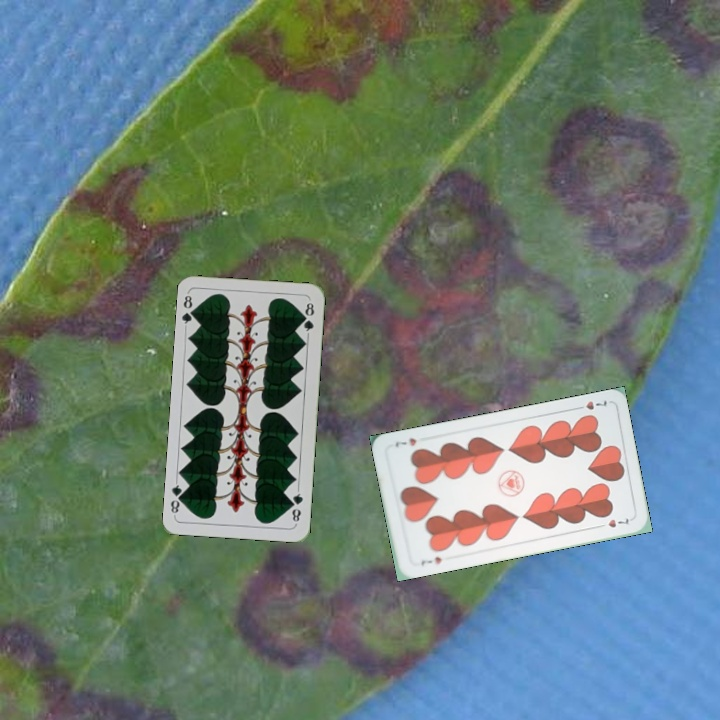G8: (178, 289, 199, 330), (287, 486, 306, 526)
H7: (571, 397, 609, 412), (417, 552, 444, 567)
